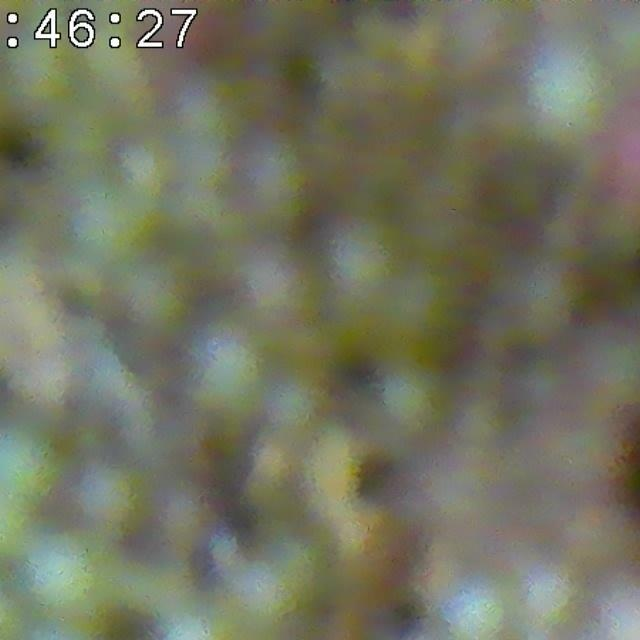SeaGrape: (520, 37, 618, 148), (16, 522, 117, 627), (177, 315, 275, 423), (71, 456, 155, 538), (0, 415, 68, 511)
